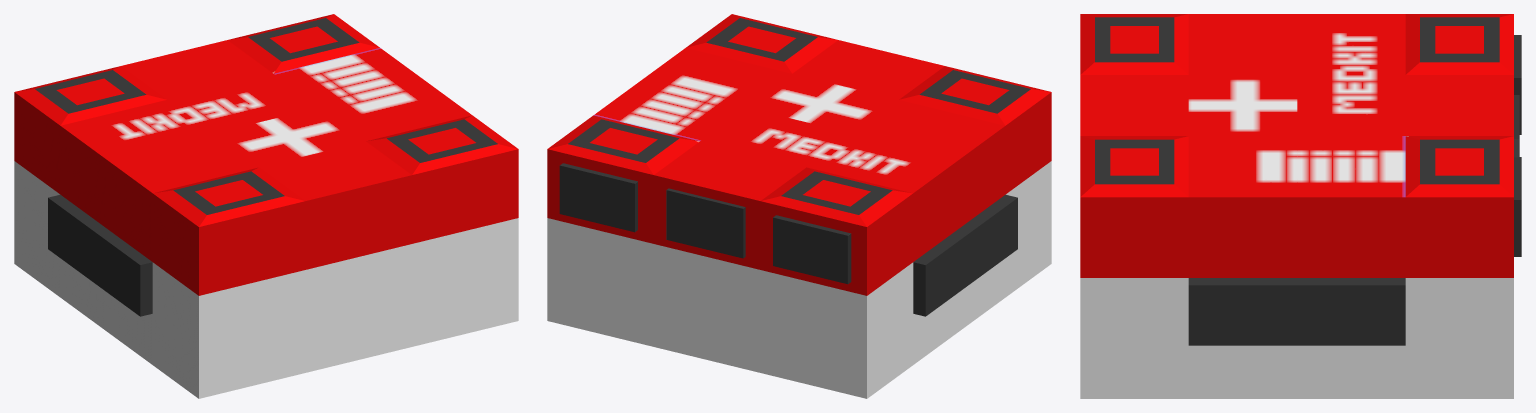
The model's file is MedKit.fbx.
3 renders of one model, left to right at view 1: azimuth 30°, elevation 25°; view 2: azimuth 150°, elevation 25°; view 3: azimuth 270°, elevation 25°, orthographic. The views are drawn at different scales.
Visible parts, largest first — view 1: MedKit; view 2: MedKit; view 3: MedKit.
Part boxes in pixels (<box>): MedKit: <box>14,14,518,398</box>; MedKit: <box>547,14,1051,398</box>; MedKit: <box>1080,14,1521,398</box>.
Size of the model in its own units: 216 by 105 by 204.
Materials: 1 (1 with a texture image).
